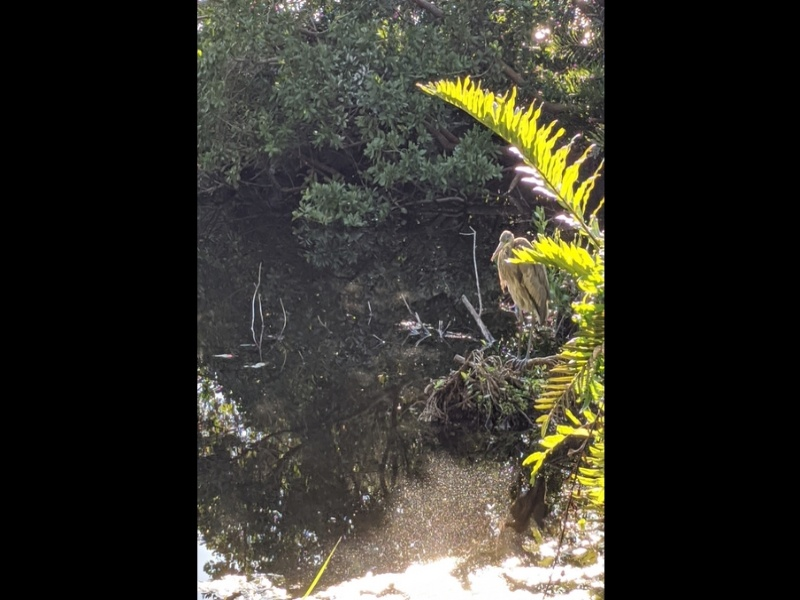heron: (488, 228, 555, 366)
